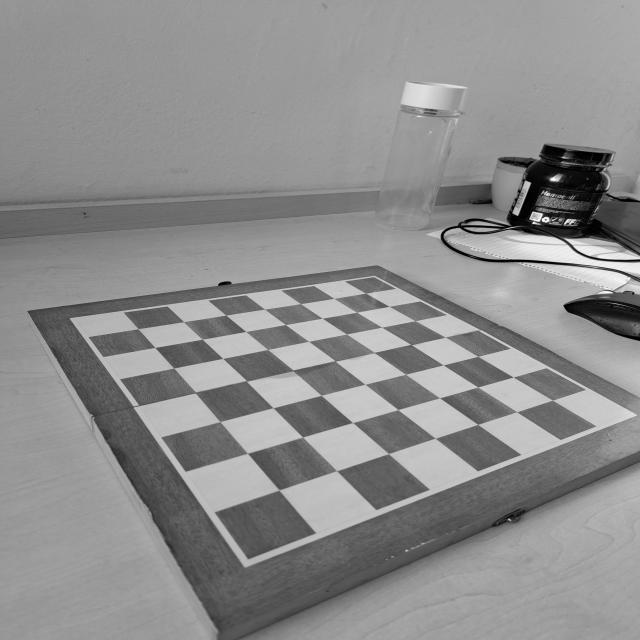chess-table-corners: (229, 544, 269, 572), (66, 312, 88, 328), (618, 408, 640, 421), (366, 272, 382, 284)
